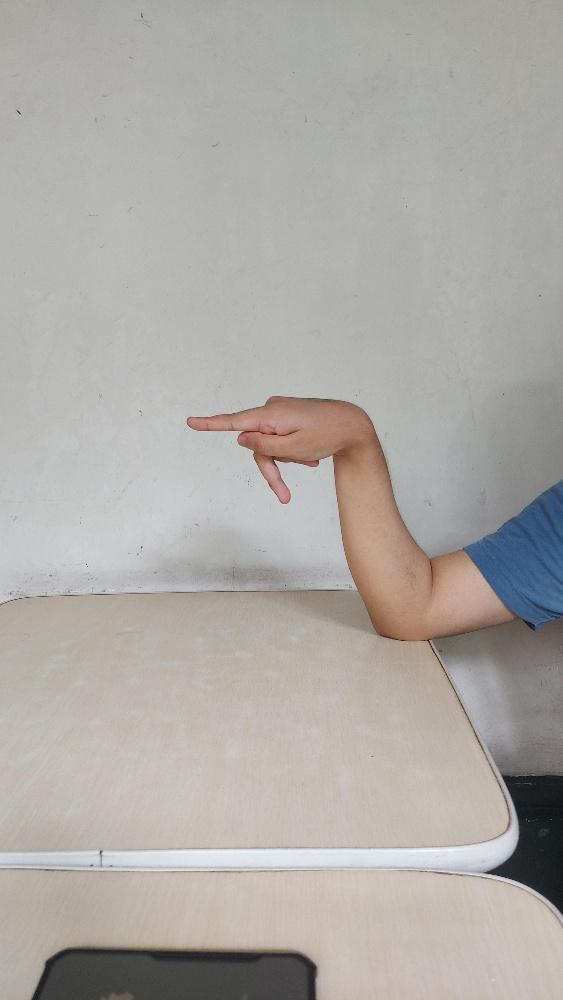p: (185, 394, 367, 503)
